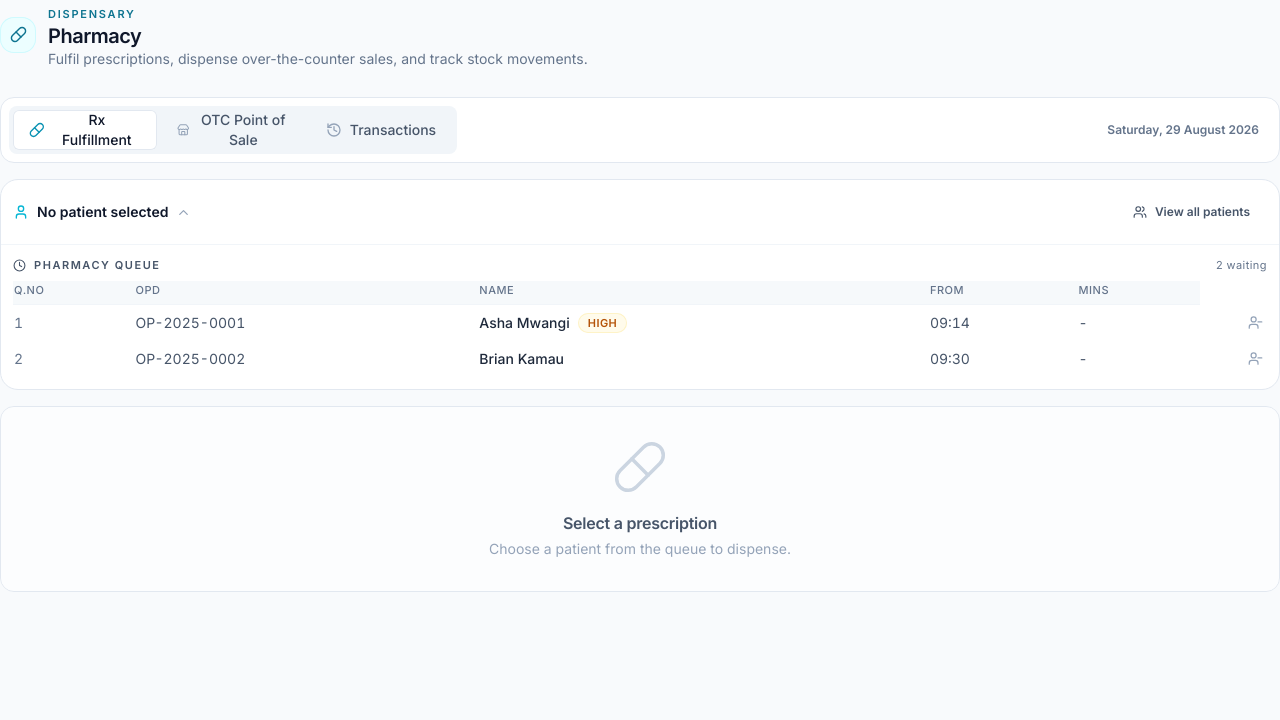
Pharmacy: OTC inventory & cart › search box filters the inventory client-side
Click the tab "OTC Point of Sale" at (233, 130), box left=161, top=110, right=305, bottom=150
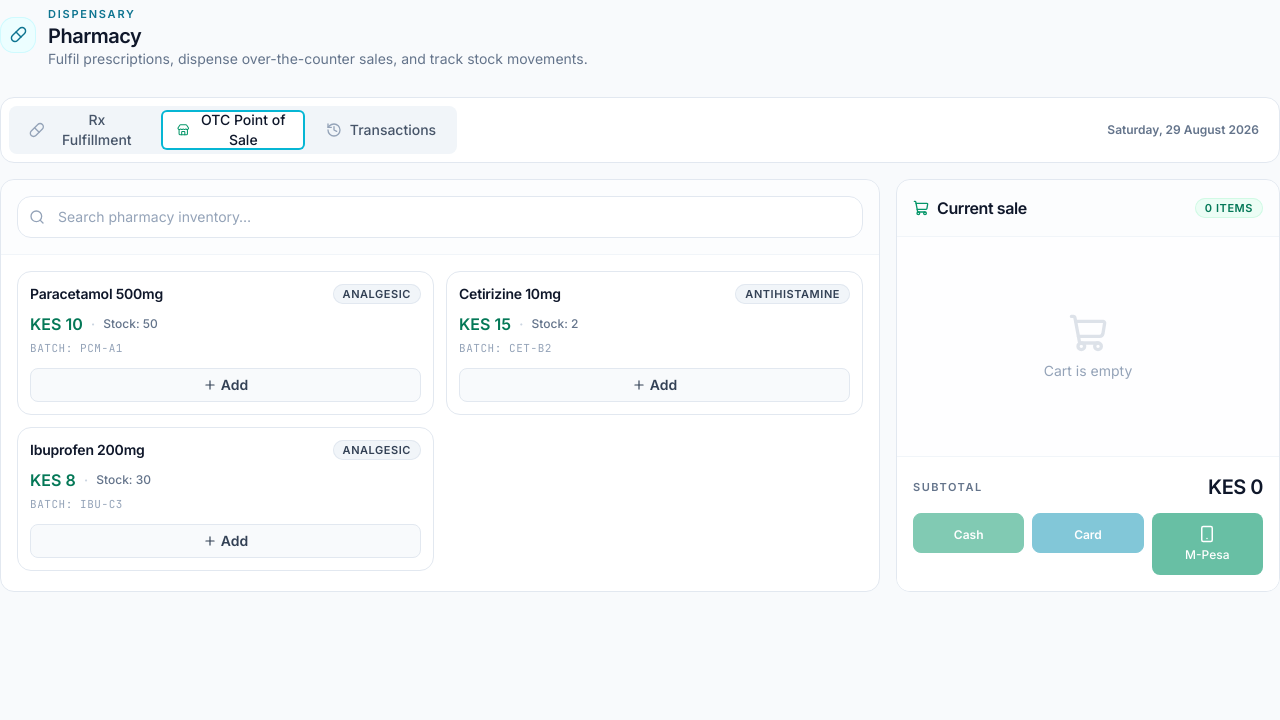
Now the heading "Paracetamol 500mg" is shown, box left=30, top=284, right=163, bottom=304
Now the heading "Cetirizine 10mg" is shown, box left=459, top=284, right=561, bottom=304
Type "cetir" into the field with placeholder "Search pharmacy inventory…" at (440, 217), box left=17, top=196, right=863, bottom=238
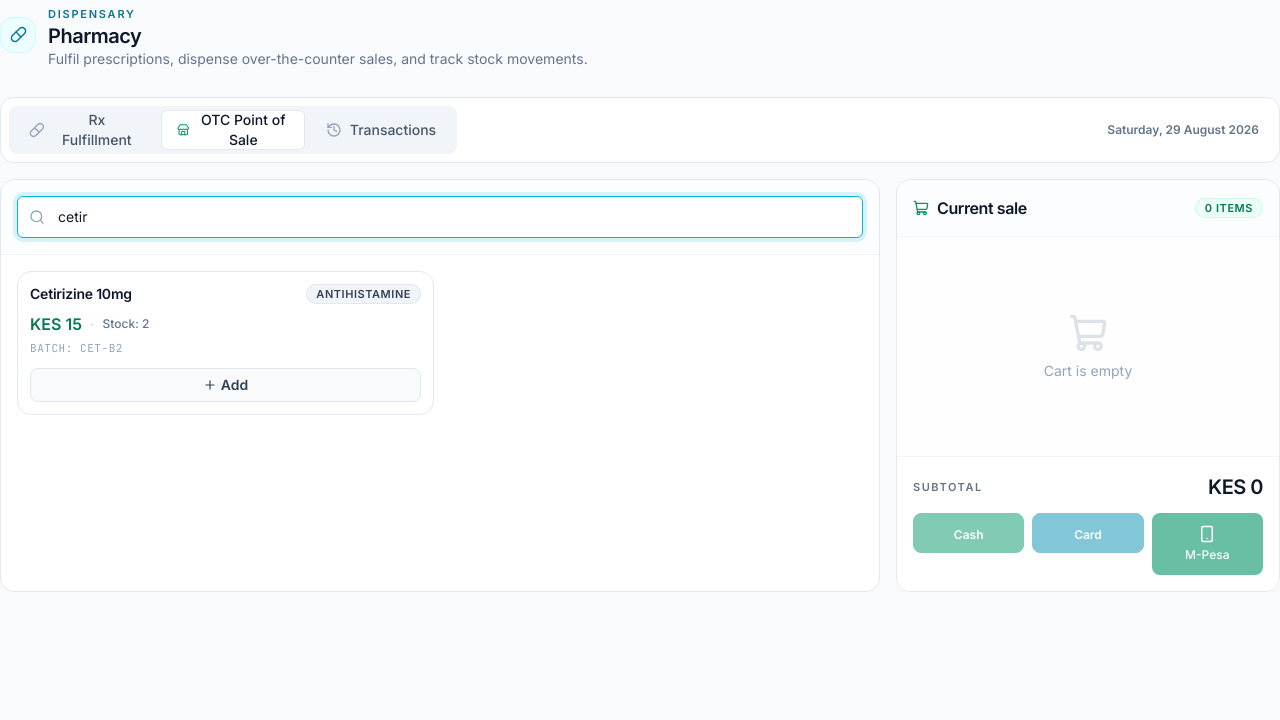
Now the heading "Cetirizine 10mg" is shown, box left=30, top=284, right=132, bottom=304
Now the heading "Paracetamol 500mg" is gone
Now the heading "Ibuprofen 200mg" is gone
